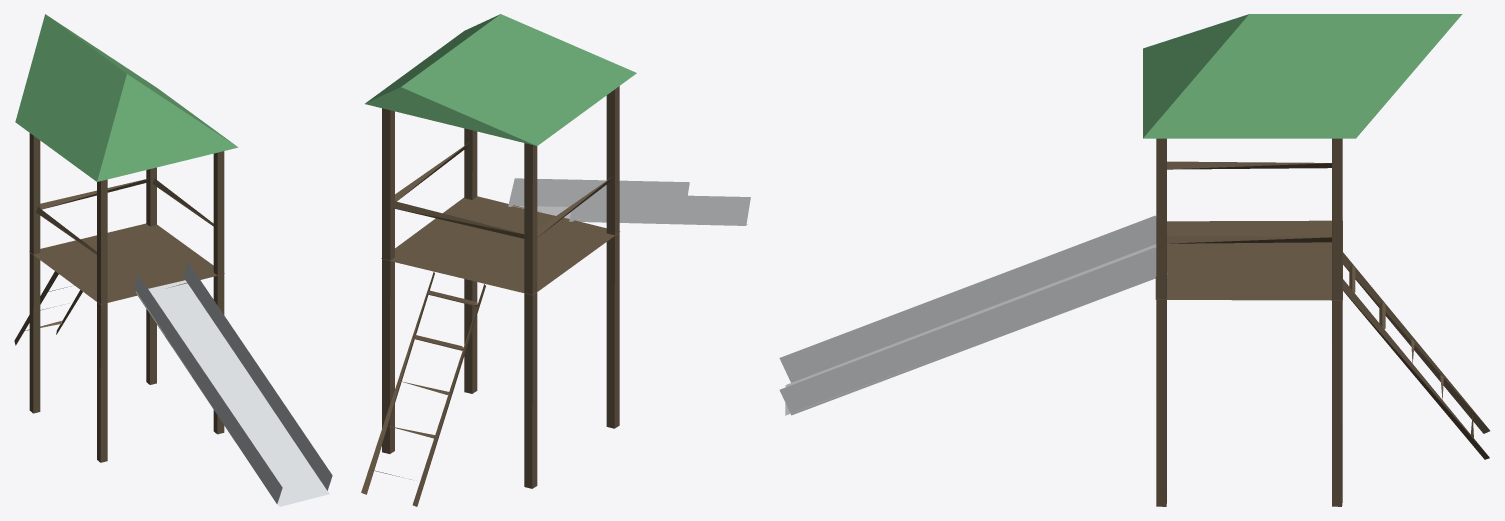
File: playground-slide-lod1.glb
3 renders of one model, left to right at view 1: azimuth 30°, elevation 25°; view 2: azimuth 150°, elevation 25°; view 3: azimuth 270°, elevation 25°, orthographic. The views are drawn at different scales.
Visible parts, largest first — view 1: playground-slide.001; view 2: playground-slide.001; view 3: playground-slide.001.
Boxes of the visible parts, x1,y1,x2,y2 form: playground-slide.001: (14,14,332,506); playground-slide.001: (361,14,750,506); playground-slide.001: (779,14,1489,506).
Bounding box in the file's own units: 1.7 × 3.99 × 5.67.
